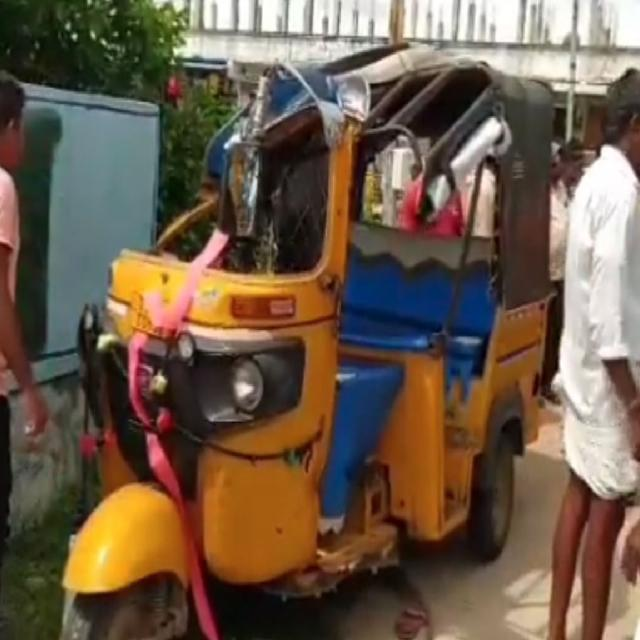accident: (62, 47, 552, 638)
